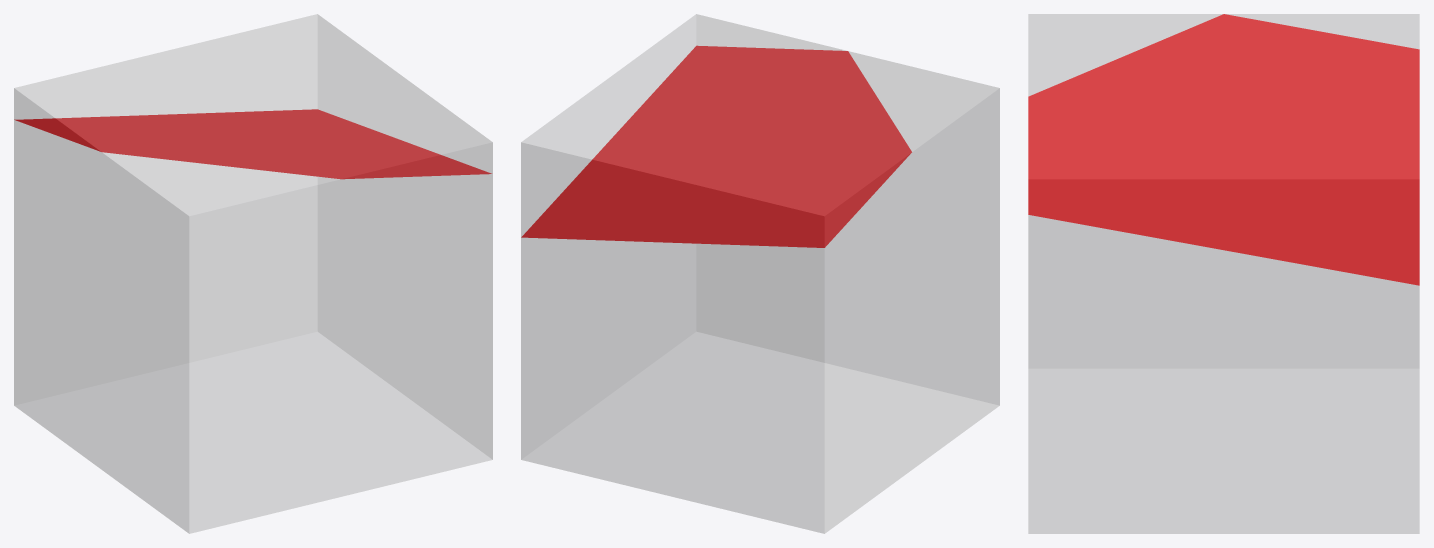
3 renders of one model, left to right at view 1: azimuth 30°, elevation 25°; view 2: azimuth 150°, elevation 25°; view 3: azimuth 270°, elevation 25°, orthographic. The views are drawn at different scales.
Visible parts, largest first — view 1: Cube, 円; view 2: Cube, 円; view 3: Cube, 円.
Part boxes in pixels (bbox=[...]): Cube: bbox=[14, 14, 492, 533]; 円: bbox=[14, 109, 491, 179]; Cube: bbox=[521, 14, 999, 533]; 円: bbox=[521, 45, 911, 247]; Cube: bbox=[1028, 14, 1419, 533]; 円: bbox=[1028, 14, 1419, 285].
Size of the model in its own units: 2 by 2 by 2.
